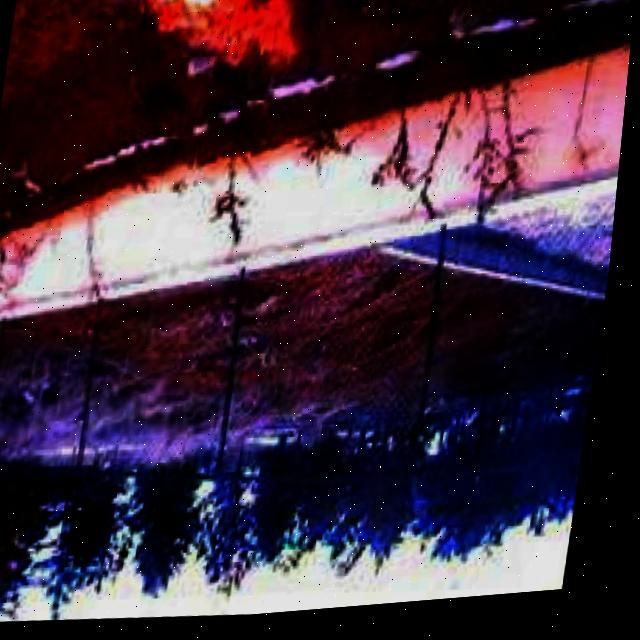Fire: (92, 0, 319, 88)
